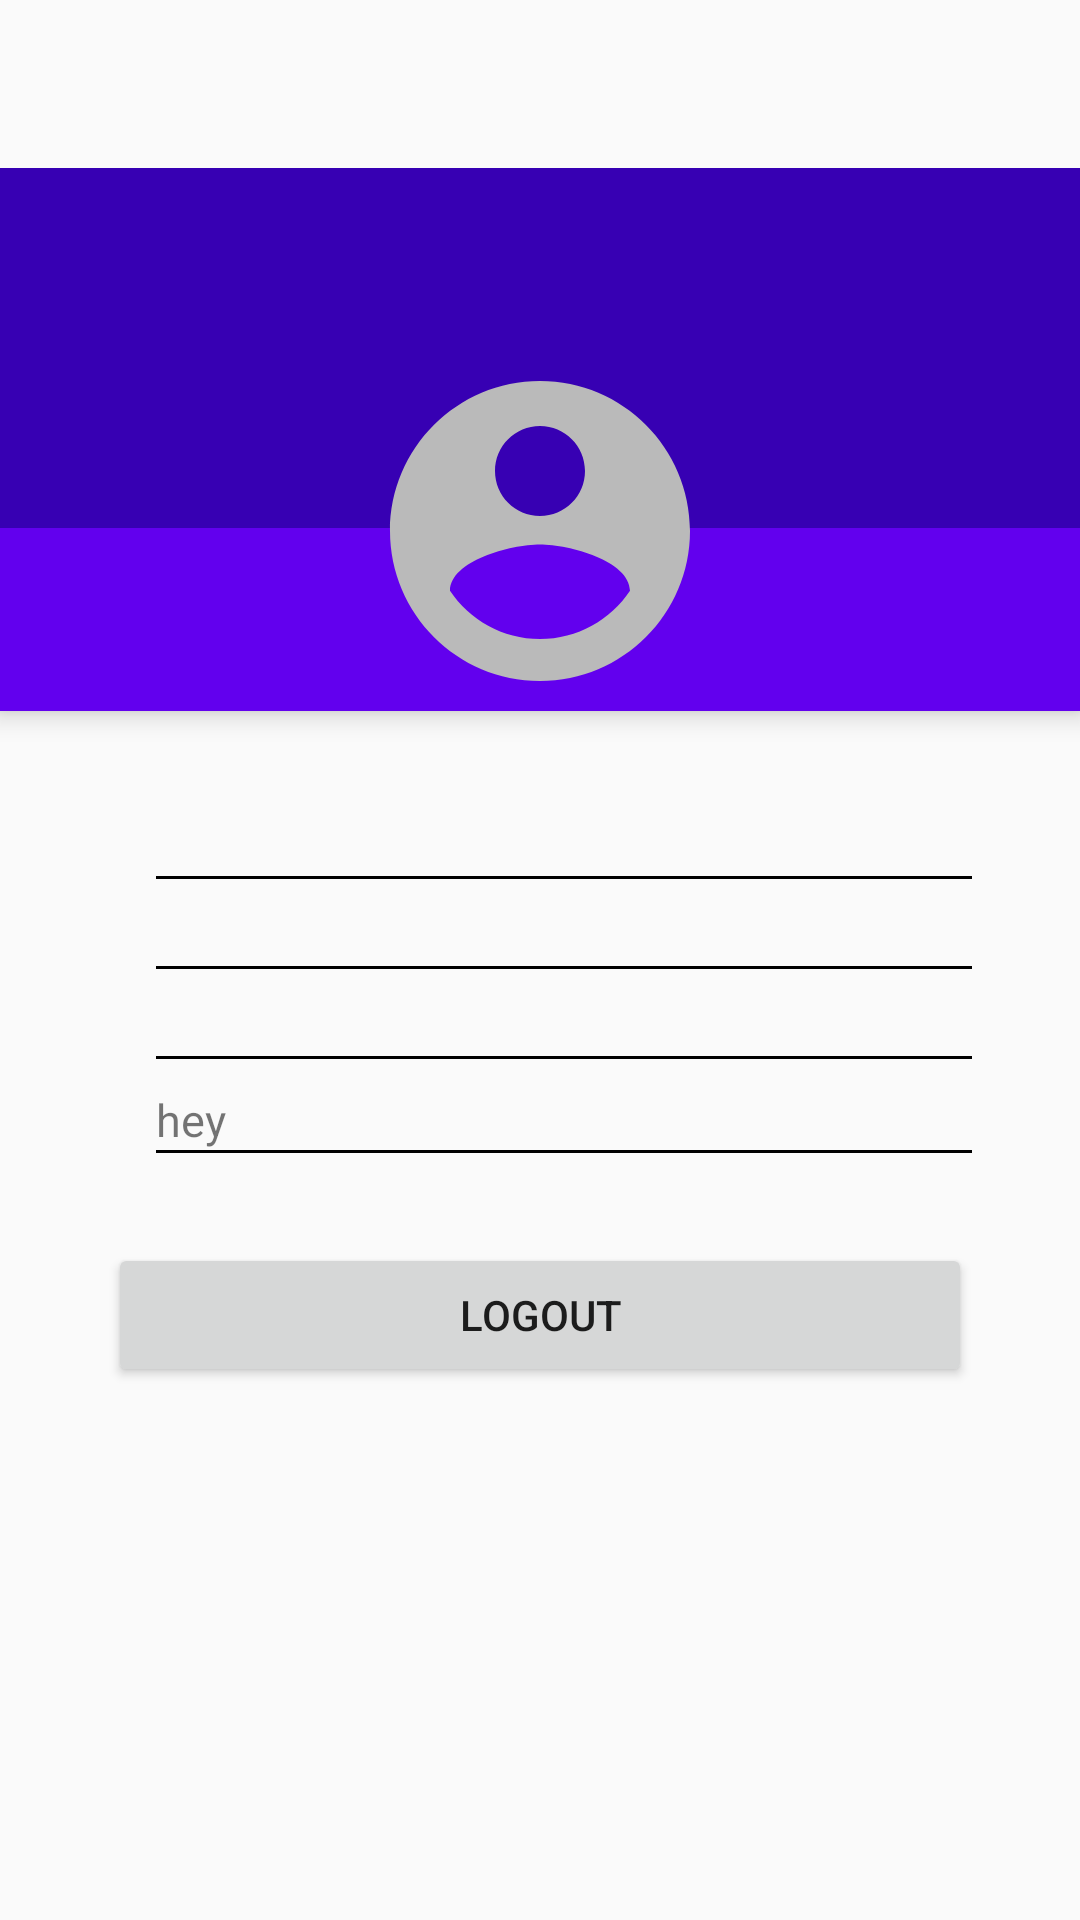

Point at icon controls on the screen. Image size 1080 x 1920, points as point (x, y).
account circle: point (540, 531)
